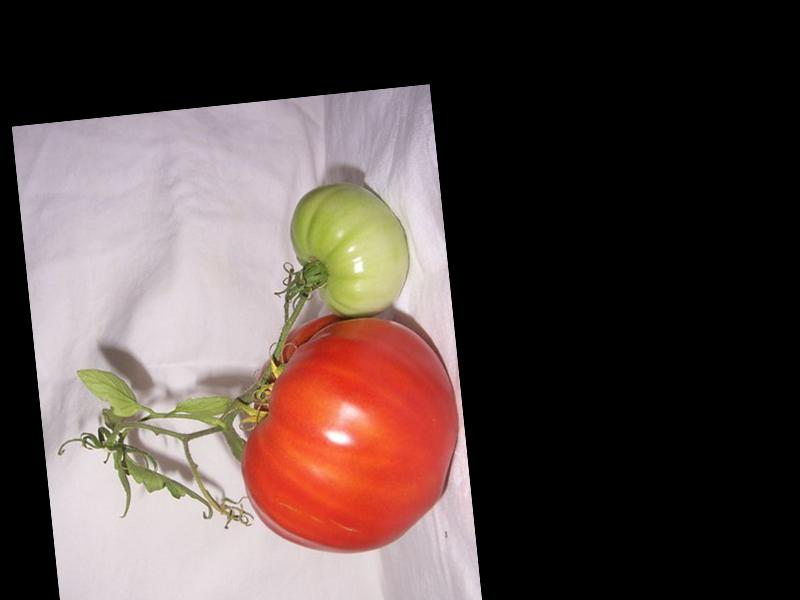Tomato: (227, 303, 468, 563)
